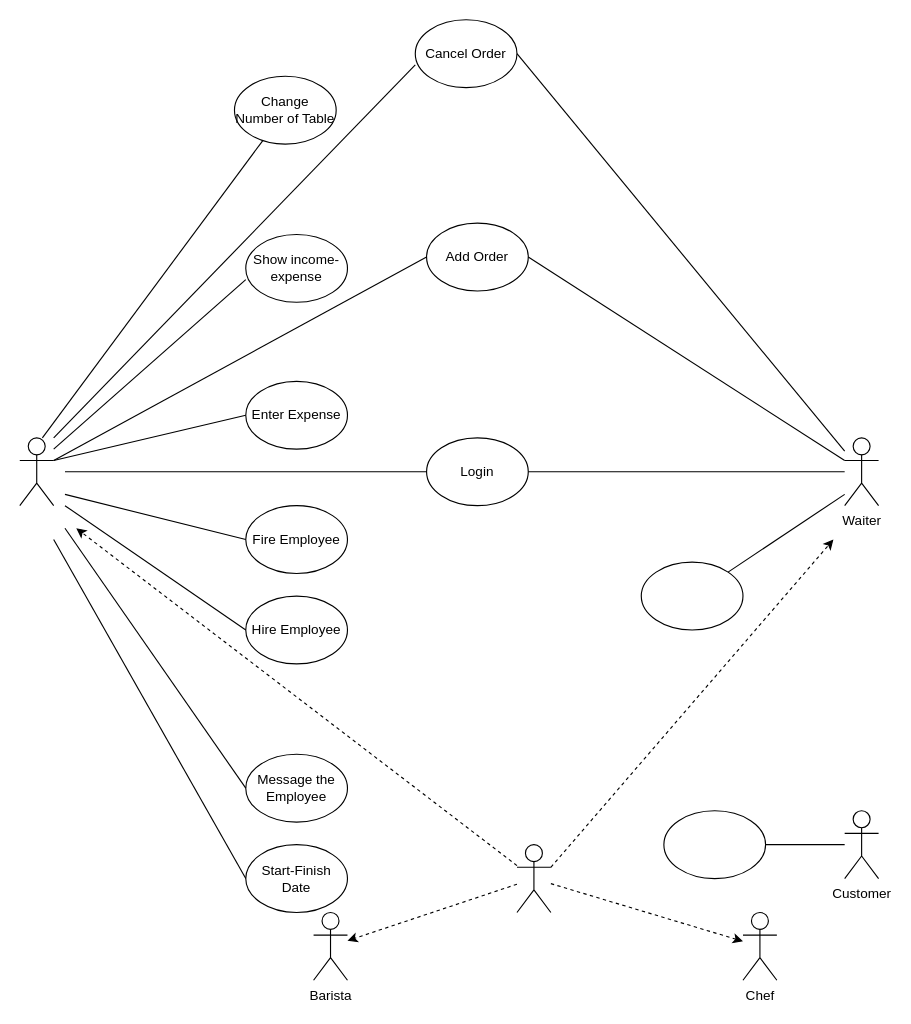
This 911x1024 diagram has some shape labels left out. The shapes that lost their labels are listed below. From the top down, each one's box as (x1, y1, x2, y2) in pixels, then its label:
(19, 437, 54, 506): Boss
(640, 561, 743, 630): Get Paid
(663, 810, 766, 879): Fill Out Of The Survey
(516, 844, 551, 912): Human
